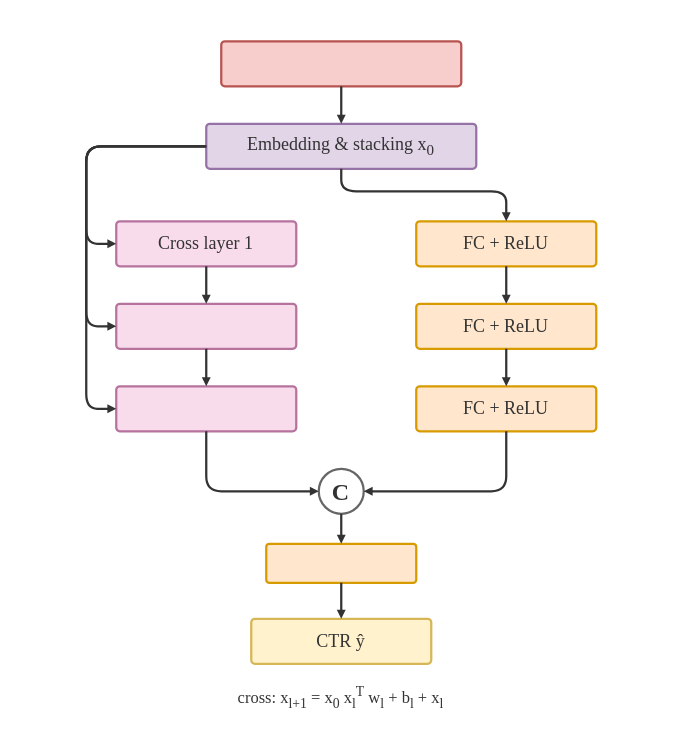
Image size: 681x750. Some labels were removed from this diagram. The centre of each missing label's shape, as x and y in pixels:
Cross layer 2: (x=205, y=325)
Cross layer 3: (x=205, y=408)
Linear + σ: (x=340, y=562)
Sparse + dense features: (x=340, y=63)
